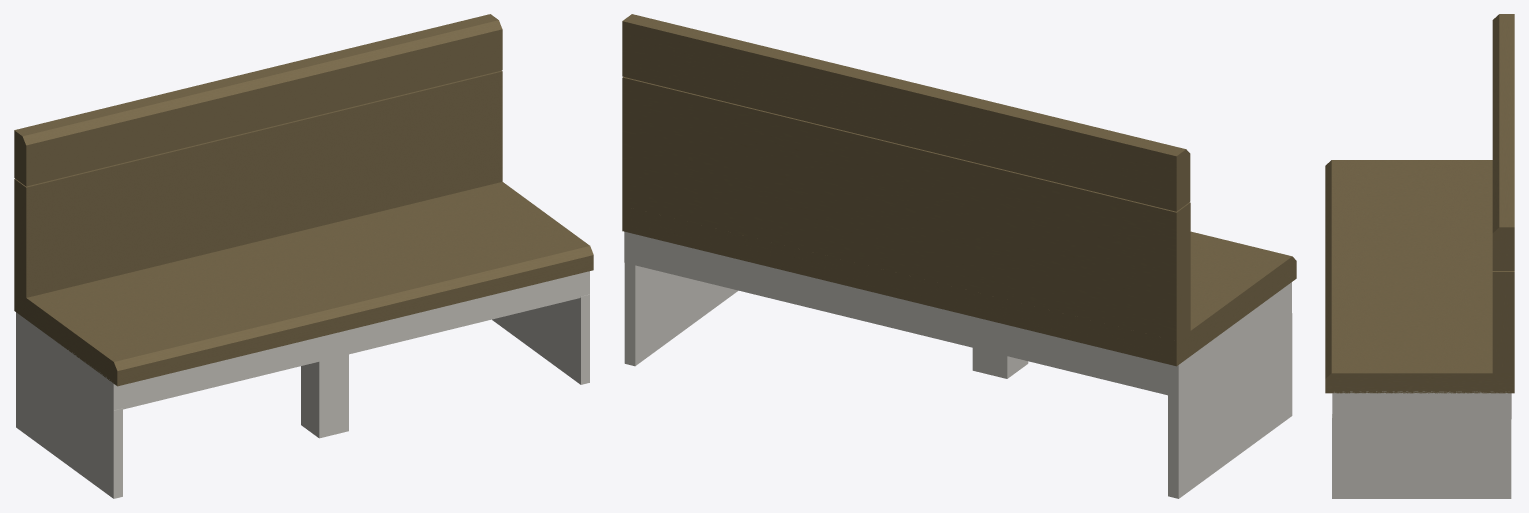
The model's file is LC_3176_bench_c_LOD1.fbx.
The picture shows the model from 3 angles, left to right: view 1: azimuth 30°, elevation 25°; view 2: azimuth 150°, elevation 25°; view 3: azimuth 270°, elevation 25°; orthographic projection. The views are drawn at different scales.
Visible parts, largest first — view 1: LC_3176_bc_LOD1; view 2: LC_3176_bc_LOD1; view 3: LC_3176_bc_LOD1.
Boxes of the visible parts, x1,y1,x2,y2 form: LC_3176_bc_LOD1: (14, 14, 593, 498); LC_3176_bc_LOD1: (622, 14, 1296, 498); LC_3176_bc_LOD1: (1325, 14, 1514, 498).
Size of the model in its own units: 160 by 94.97 by 60.09.
Materials: 1 (1 with a texture image).
